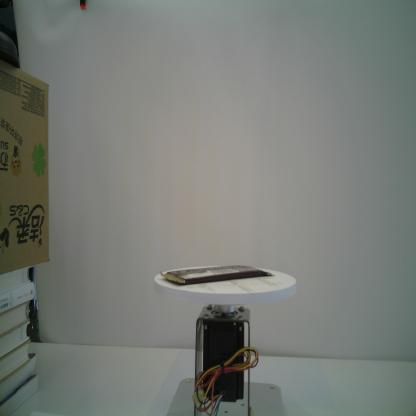Chocolate: (156, 262, 277, 287)
